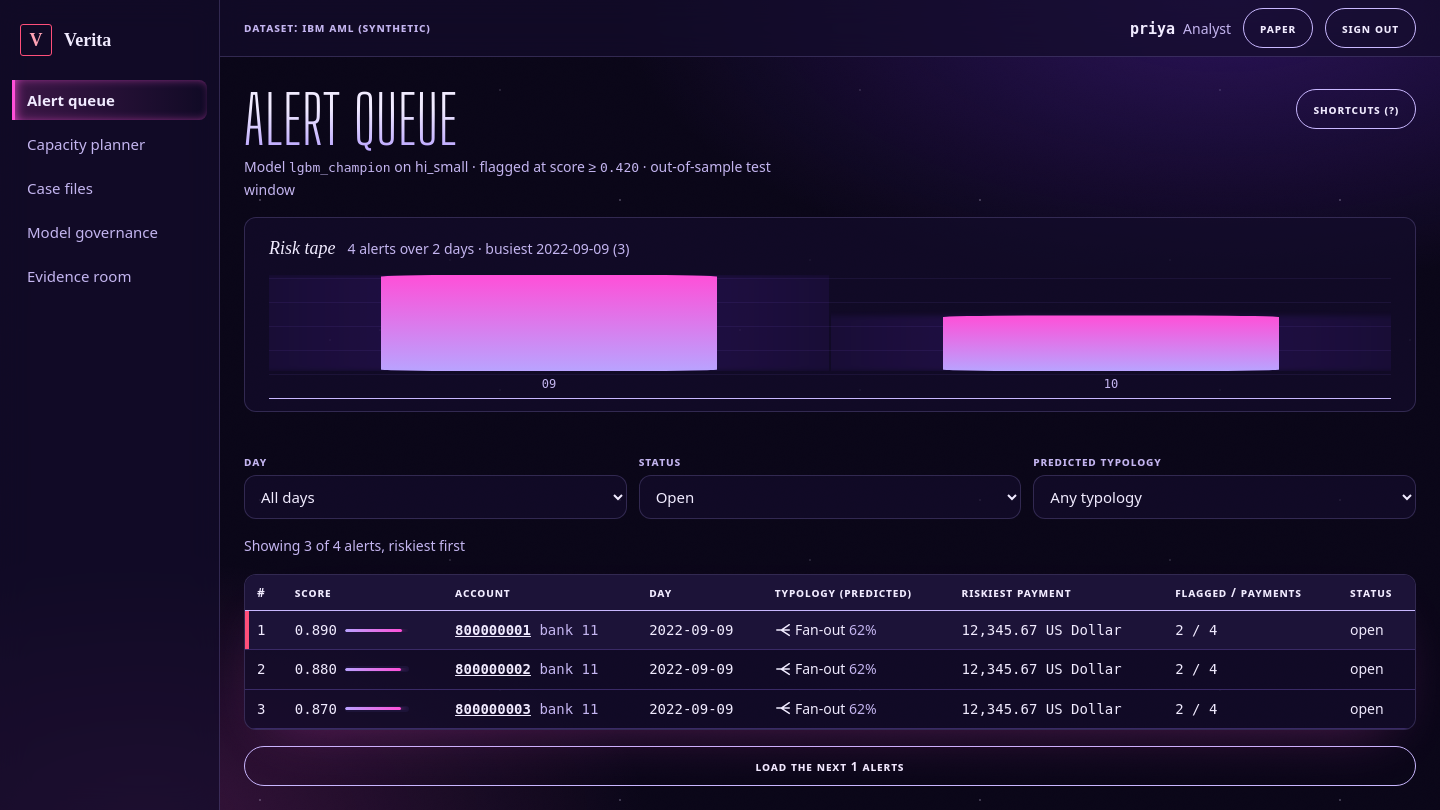
Test: changes filters through the URL
Expected: the text "Showing 3 of 4 alerts, riskiest first" is shown, x1=244 y1=536 x2=465 y2=555
Select "2022-09-10 (1)" in the dropdown labelled "Day" at (435, 497), box x1=244 y1=475 x2=627 y2=519
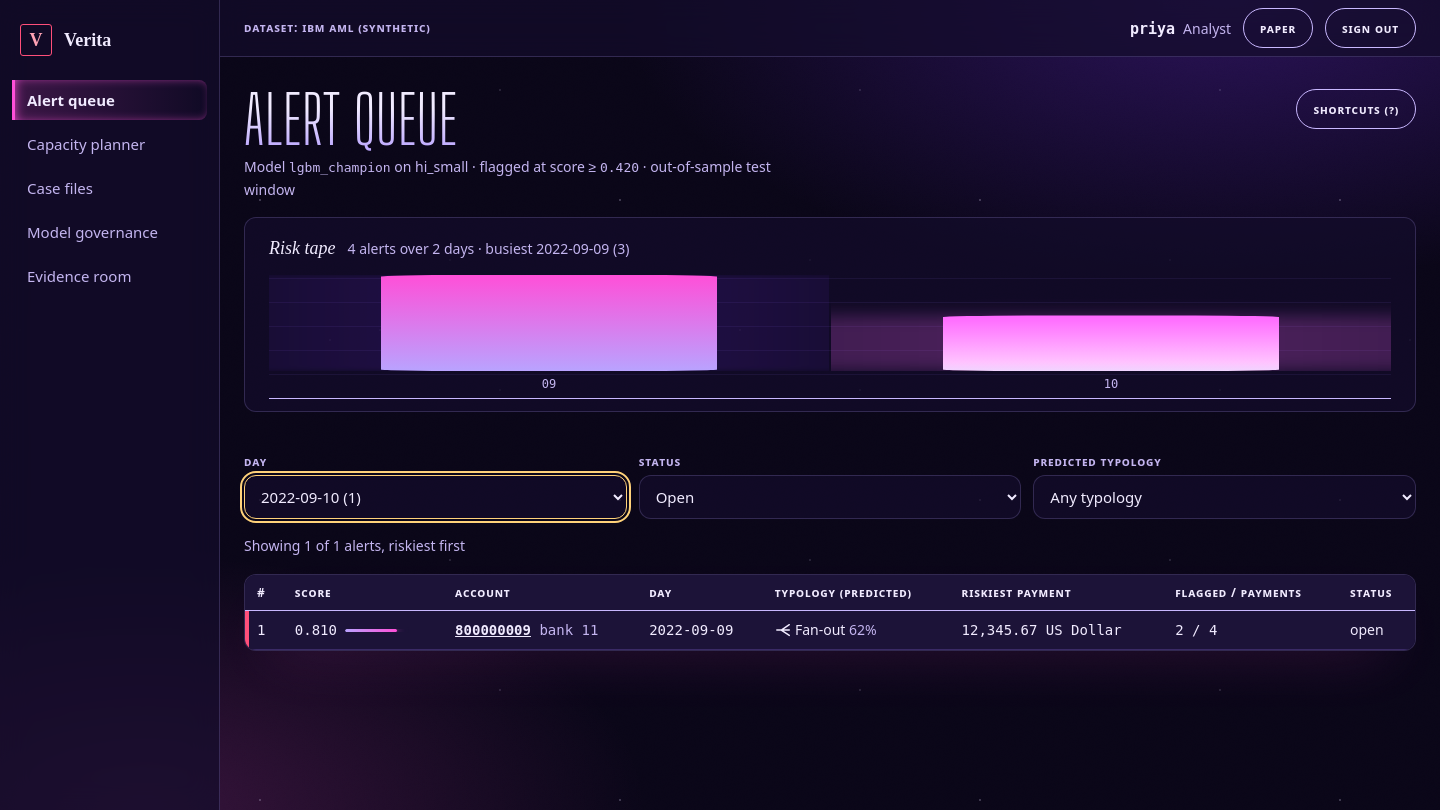
Result: the text "Showing 1 of 1 alerts, riskiest first" is shown at x1=244 y1=536 x2=465 y2=555
